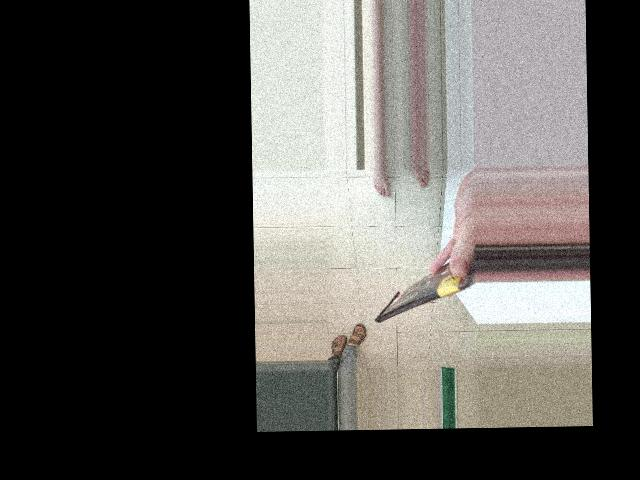chocolate: (355, 219, 432, 322)
